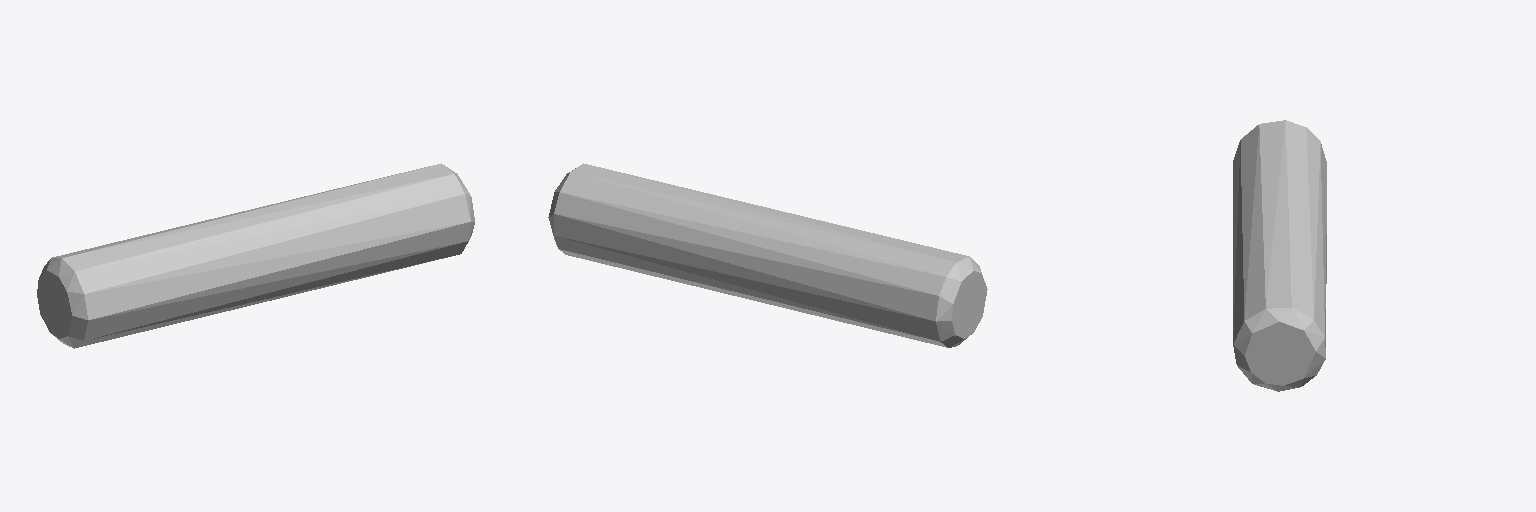
File: m20 pins.obj
3 views of the same model, side by side, from view 1: azimuth 30°, elevation 25°; view 2: azimuth 150°, elevation 25°; view 3: azimuth 270°, elevation 25° (orthographic).
Visible parts, largest first — view 1: imagetostl_mesh0; view 2: imagetostl_mesh0; view 3: imagetostl_mesh0.
Part boxes in pixels (x1,y1,x2,y2): imagetostl_mesh0: (37,163,474,348); imagetostl_mesh0: (548,163,987,347); imagetostl_mesh0: (1233,120,1326,391).
Bounding box in the file's own units: 100 × 20.13 × 20.38.